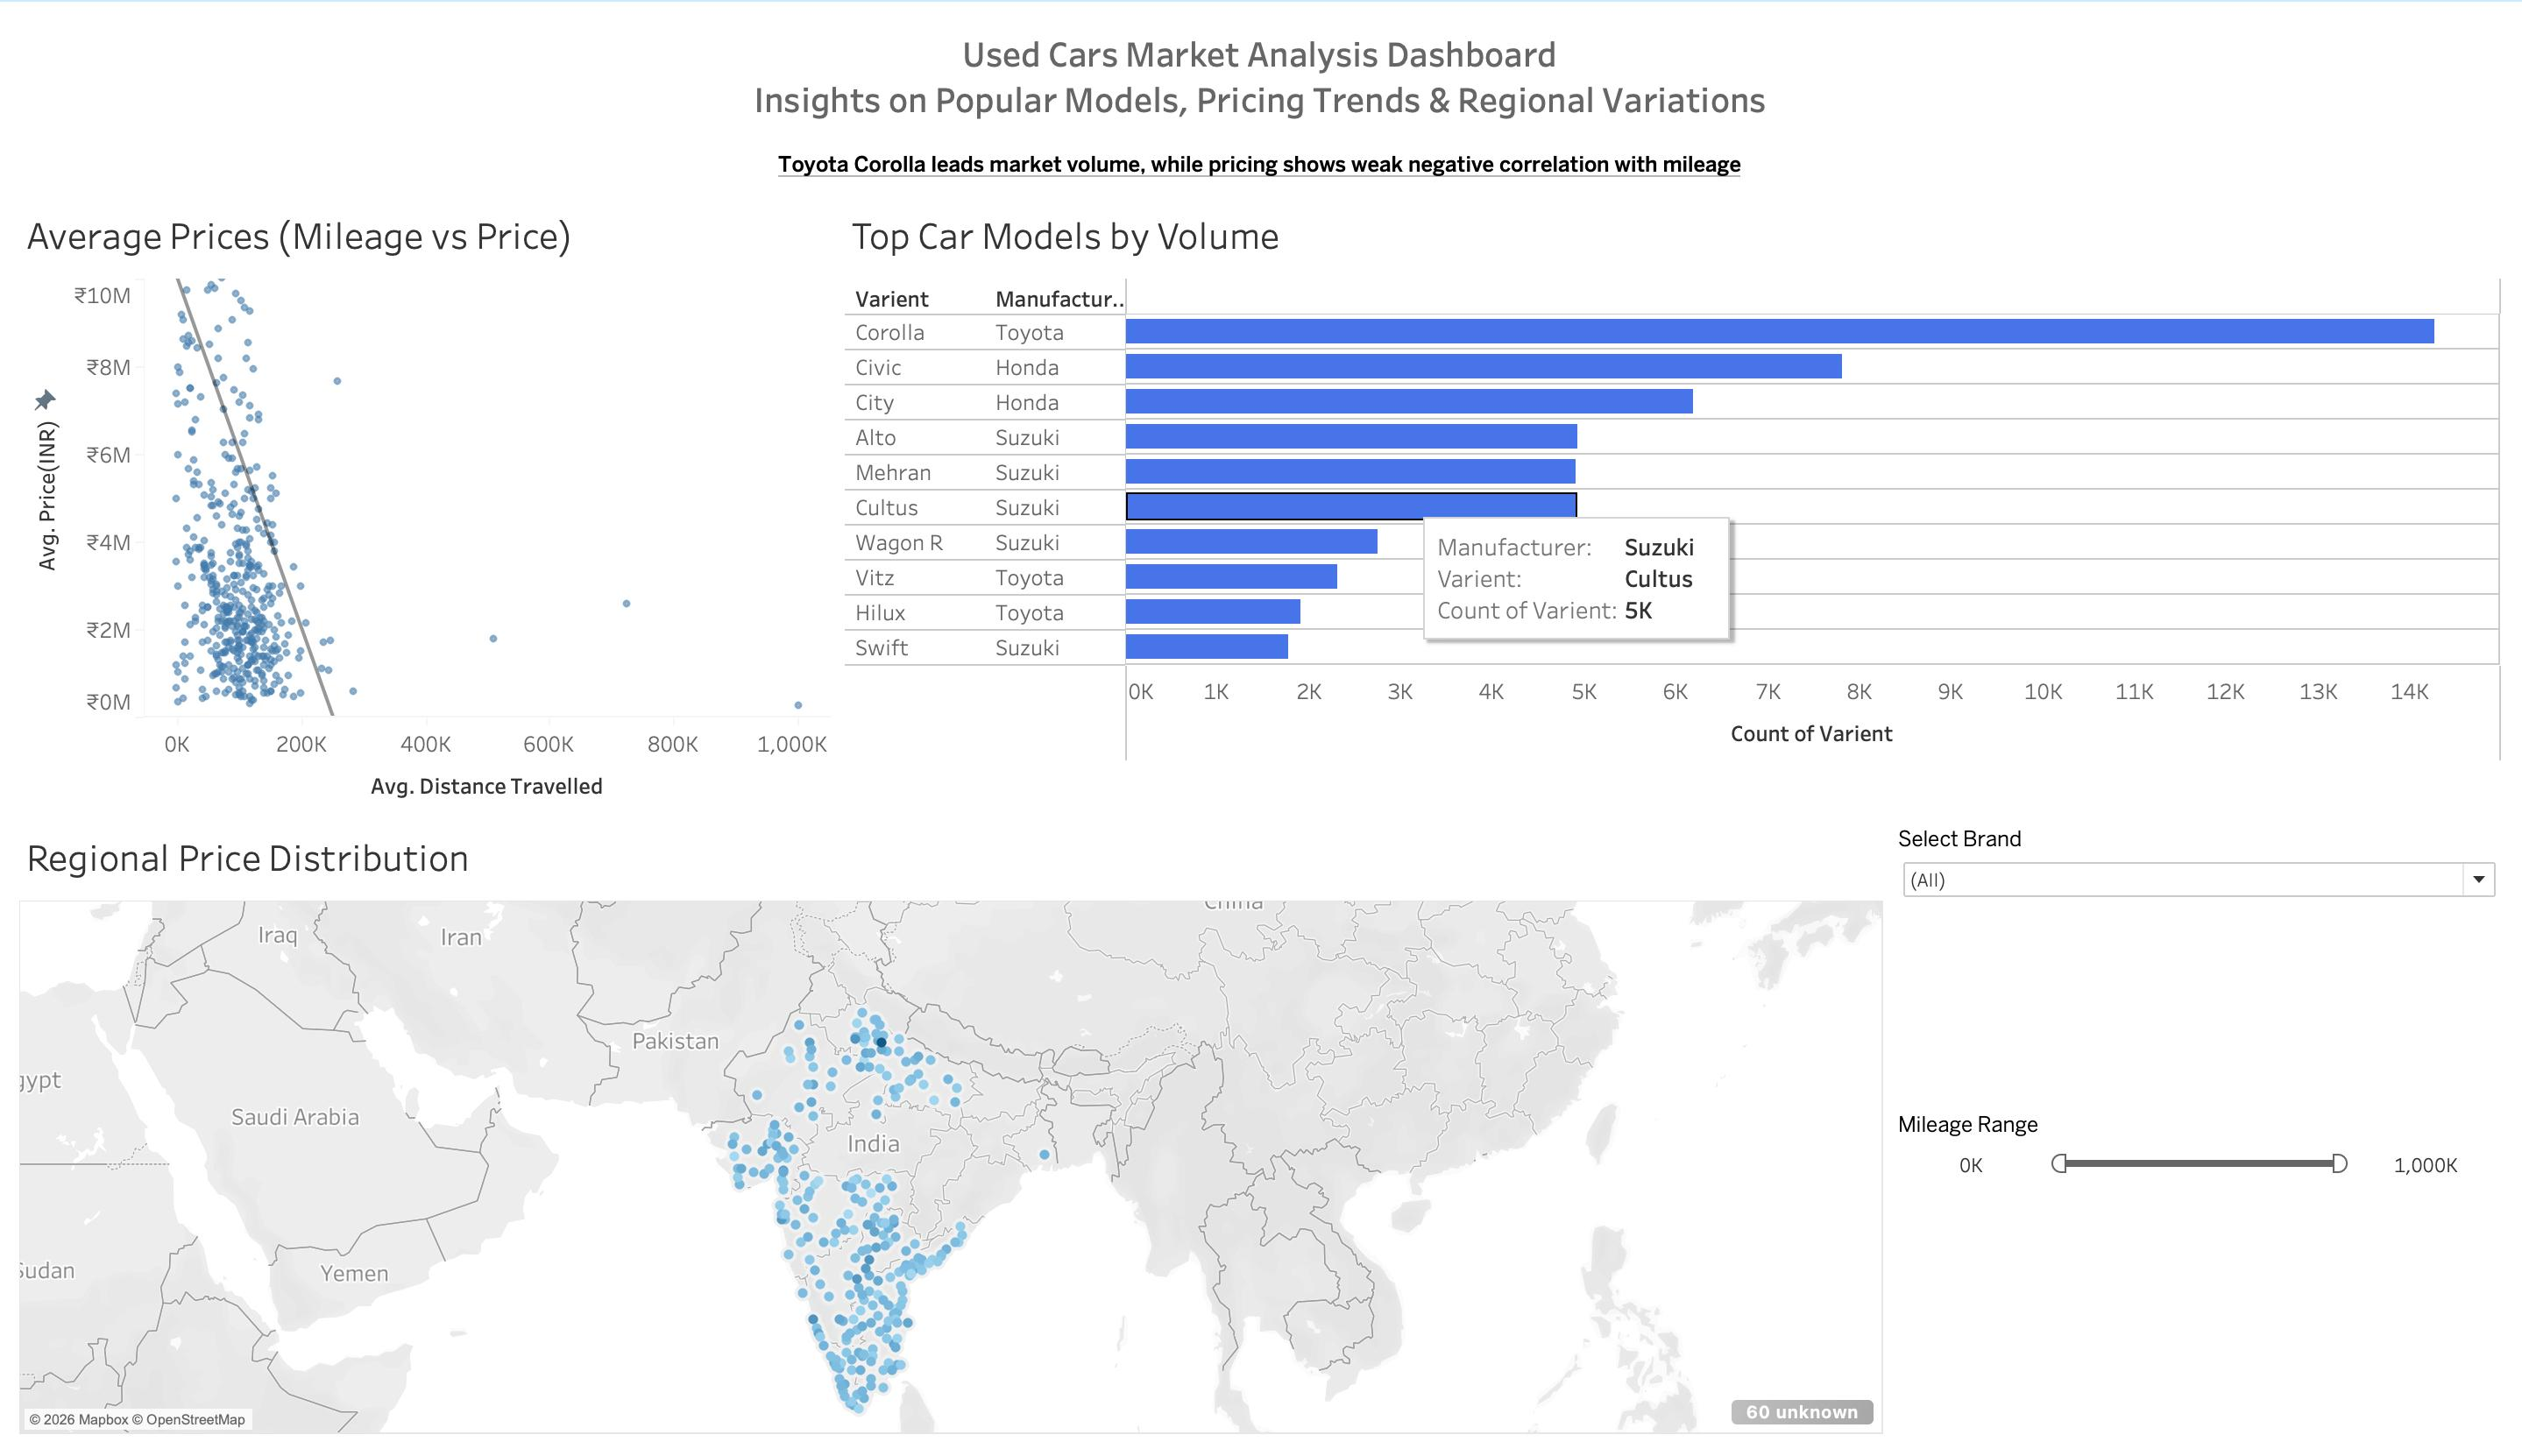

Layout of this report page (visuals, bound fields, positions):
{"tool":"tableau","page":{"name":"Used Cars Market Analysis","canvas":[1000,1000],"units":"permille","ordinal":0},"visuals":[{"type":"text","box":[5.7,10.4,988.7,82]},{"type":"text","box":[5.7,92.4,988.7,41.7]},{"type":"worksheet","title":"Average Prices (Mileage vs Price)","mark":"Automatic","rows":["Price(INR)"],"cols":["Distance Travelled"],"box":[5.7,134.1,326.8,427.7]},{"type":"worksheet","title":"Top Car Models by Volume","mark":"Bar","rows":["Varient","Manufacturer"],"cols":["Varient"],"box":[332.5,134.1,661.9,427.7]},{"type":"worksheet","title":"Regional Price Distribution","mark":"Circle","box":[5.7,561.8,744.1,427.8]},{"type":"filter","title":"Top Car Models by Volume","param":"[federated.1ff5p7s1w0rodl15n8efj196fabd].[none:Manufacturer:nk]","box":[749.8,561.8,244.5,195.9]},{"type":"filter","title":"Average Prices (Mileage vs Price)","param":"[federated.1ff5p7s1w0rodl15n8efj196fabd].[avg:Distance Travelled:qk]","box":[749.8,757.7,244.5,231.8]}]}

Visuals, with their boxes on the dashboard's canvas, which has no fixed pixel size, in thousandths of its width and height (x1, y1, x2, y2). These are canvas units, not pixel positions in the 2522x1456 screenshot, which may show the page scaled, cropped or inside an application window:
text: {"x1": 6, "y1": 10, "x2": 994, "y2": 92}
text: {"x1": 6, "y1": 92, "x2": 994, "y2": 134}
"Average Prices (Mileage vs Price)" worksheet: {"x1": 6, "y1": 134, "x2": 332, "y2": 562}
"Top Car Models by Volume" worksheet (Bar marks): {"x1": 332, "y1": 134, "x2": 994, "y2": 562}
"Regional Price Distribution" worksheet (Circle marks): {"x1": 6, "y1": 562, "x2": 750, "y2": 990}
"Top Car Models by Volume" filter: {"x1": 750, "y1": 562, "x2": 994, "y2": 758}
"Average Prices (Mileage vs Price)" filter: {"x1": 750, "y1": 758, "x2": 994, "y2": 990}
